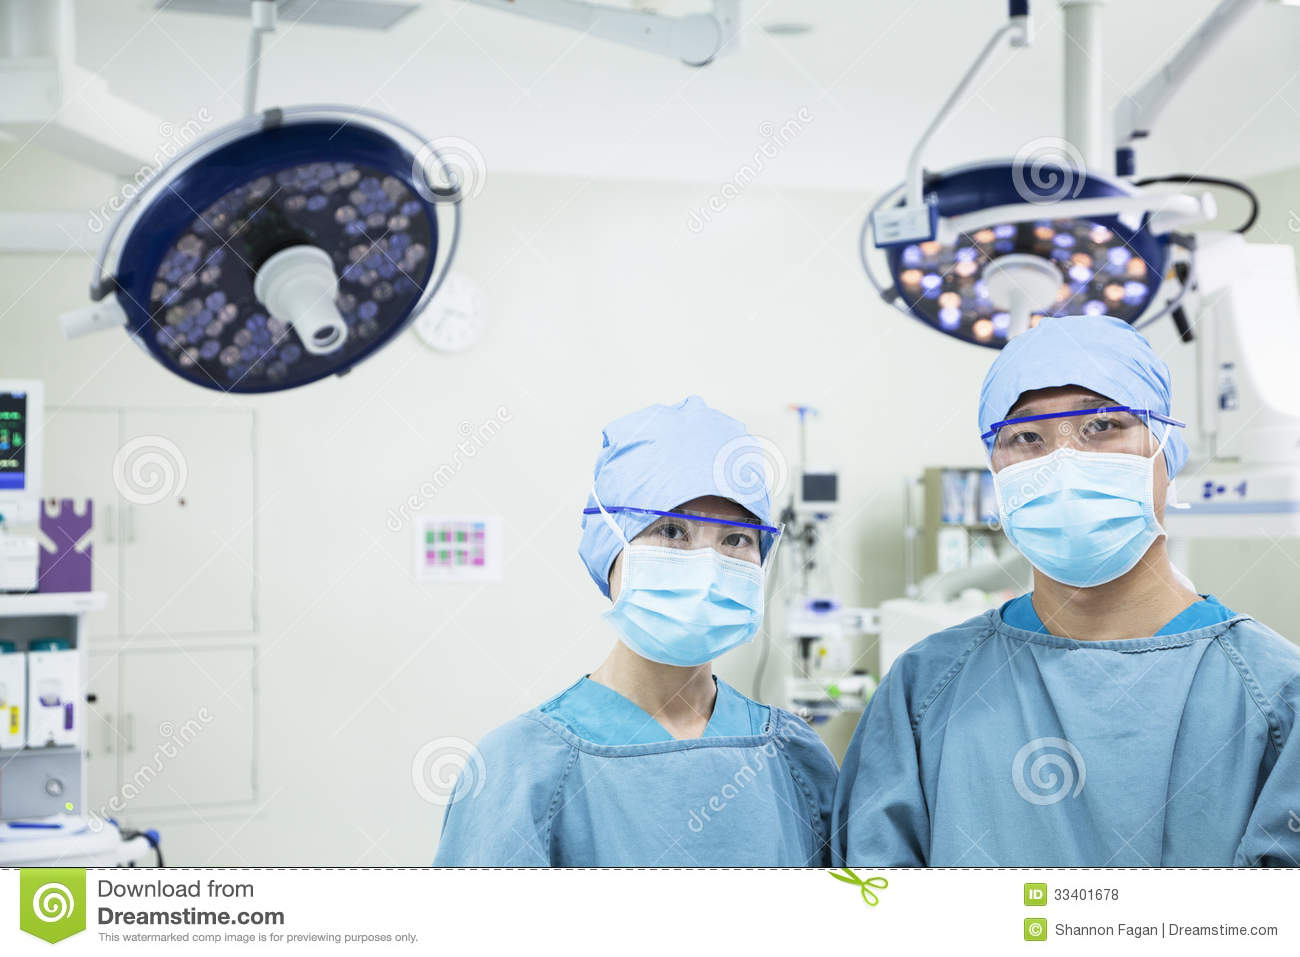mask: (611, 549, 776, 682), (1007, 460, 1167, 594)
